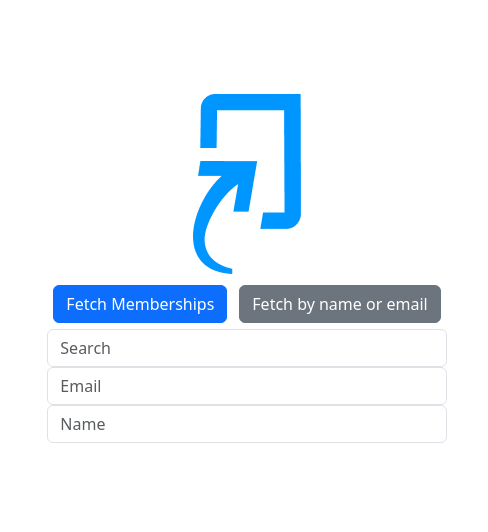
App › search by name or email button › should get all memberships when name and email is blank when button is clicked
The width and height of the screenshot is (488, 532).
Click the button "Fetch by name or email" at (340, 304), box [239, 285, 441, 323]
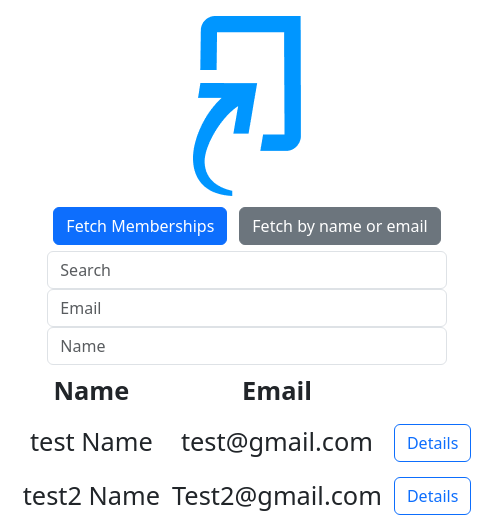
Expected: the text "test@gmail.com" is shown, [166, 415, 388, 468]
Expected: the text "test Name" is shown, [17, 415, 166, 468]
